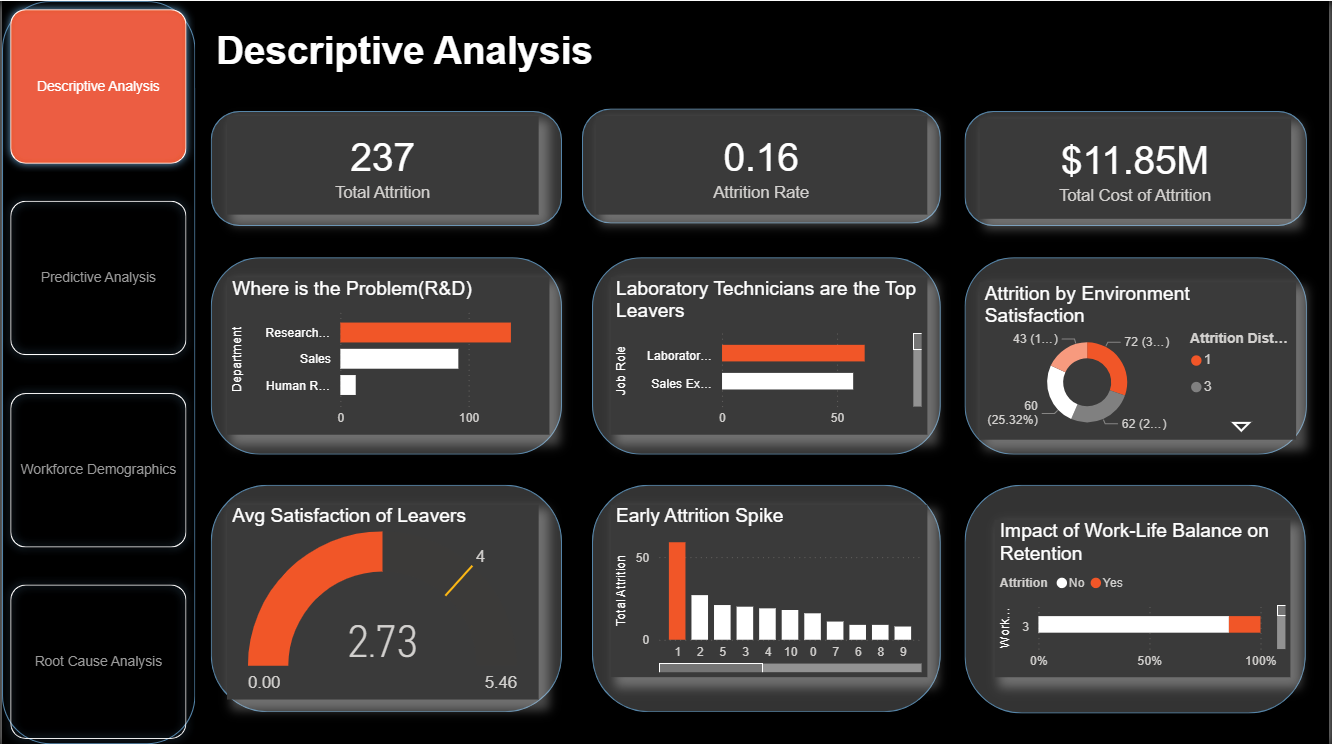

The dashboard page shown, as its layout file describes it:
{"tool":"powerbi","page":{"name":"Descriptive Analysis","canvas":[1280,720],"ordinal":0},"visuals":[{"type":"shape","box":[569.4,247.3,336.6,190.6],"z":1000},{"type":"shape","box":[929,247.3,330.6,190.6],"z":2000},{"type":"shape","box":[201.5,247.3,339,190.6],"z":3000},{"type":"shape","box":[201.5,106.2,339,111],"z":4000},{"type":"shape","box":[569.4,466.9,336.6,219.6],"z":5000},{"type":"shape","box":[929,466.9,329.4,220.8],"z":6000},{"type":"shape","box":[201.5,466.9,339,219.6],"z":7000},{"type":"shape","box":[929,106.2,330.6,111],"z":8000},{"type":"shape","box":[559.8,103.8,346.2,111],"z":9000},{"type":"card","fields":{"Values":["hr_project employee_data.Total Attrition"]},"box":[217.2,111,300.4,95.3],"z":10000},{"type":"card","fields":{"Values":["hr_project employee_data.Total Cost of Attrition"]},"box":[943.4,113.4,300.4,96.5],"z":11000},{"type":"card","fields":{"Values":["hr_project employee_data.Attrition Rate"]},"box":[573.1,111,319.7,95.3],"z":12000},{"type":"clusteredBarChart","title":"Where is the Problem(R&D)","fields":{"Category":["hr_project employee_data.Department"],"Y":["hr_project employee_data.Total Attrition"]},"box":[217.2,266.6,311.3,152],"z":13000},{"type":"textbox","box":[201.5,21.7,1058,60.3],"z":13500},{"type":"clusteredBarChart","title":"Laboratory Technicians are the Top Leavers","fields":{"Category":["hr_project employee_data.JobRole"],"Y":["hr_project employee_data.Total Attrition"]},"box":[587.5,266.6,305.2,152],"z":14000},{"type":"donutChart","title":"Attrition by Environment Satisfaction","fields":{"Category":["hr_project employee_data.EnvironmentSatisfaction"],"Y":["hr_project employee_data.Total Attrition"]},"box":[943.4,271.4,305.2,152],"z":15000},{"type":"clusteredColumnChart","title":"Early Attrition Spike","fields":{"Category":["hr_project employee_data.YearsAtCompany"],"Y":["hr_project employee_data.Total Attrition"]},"box":[587.5,486.2,305.2,166.5],"z":16000},{"type":"hundredPercentStackedBarChart","title":"Impact of Work-Life Balance on Retention","fields":{"Category":["hr_project employee_data.WorkLifeBalance"],"Series":["hr_project employee_data.Attrition"],"Y":["hr_project employee_data.Total Employees"]},"box":[957.9,500.7,285.9,152],"z":17000},{"type":"gauge","title":"Avg Satisfaction of Leavers","fields":{"Y":["Avg(hr_project employee_data.JobSatisfaction)"],"TargetValue":["Retention Improvement %.Maximum job Satisfaction"]},"box":[217.2,486.2,300.4,188.2],"z":18000},{"type":"shape","box":[0,0,186.7,717.3],"z":20000},{"type":"pageNavigator","box":[0,0,186.7,720],"z":20500}]}

Visuals, with their boxes in screenshot pixels (x1, y1, x2, y2), scaled from the page's 1280x720 canvas onto the 1332x744 screenshot:
shape: locate(593, 256, 943, 452)
shape: locate(967, 256, 1311, 452)
shape: locate(210, 256, 562, 452)
shape: locate(210, 110, 562, 224)
shape: locate(593, 482, 943, 709)
shape: locate(967, 482, 1310, 711)
shape: locate(210, 482, 562, 709)
shape: locate(967, 110, 1311, 224)
shape: locate(583, 107, 943, 222)
card - hr_project employee_data.Total Attrition: locate(226, 115, 539, 213)
card - hr_project employee_data.Total Cost of Attrition: locate(982, 117, 1294, 217)
card - hr_project employee_data.Attrition Rate: locate(596, 115, 929, 213)
"Where is the Problem(R&D)" clusteredBarChart: locate(226, 275, 550, 433)
textbox: locate(210, 22, 1311, 85)
"Laboratory Technicians are the Top Leavers" clusteredBarChart: locate(611, 275, 929, 433)
"Attrition by Environment Satisfaction" donutChart: locate(982, 280, 1299, 438)
"Early Attrition Spike" clusteredColumnChart: locate(611, 502, 929, 674)
"Impact of Work-Life Balance on Retention" hundredPercentStackedBarChart: locate(997, 517, 1294, 674)
"Avg Satisfaction of Leavers" gauge: locate(226, 502, 539, 697)
shape: locate(0, 0, 194, 741)
pageNavigator: locate(0, 0, 194, 743)
